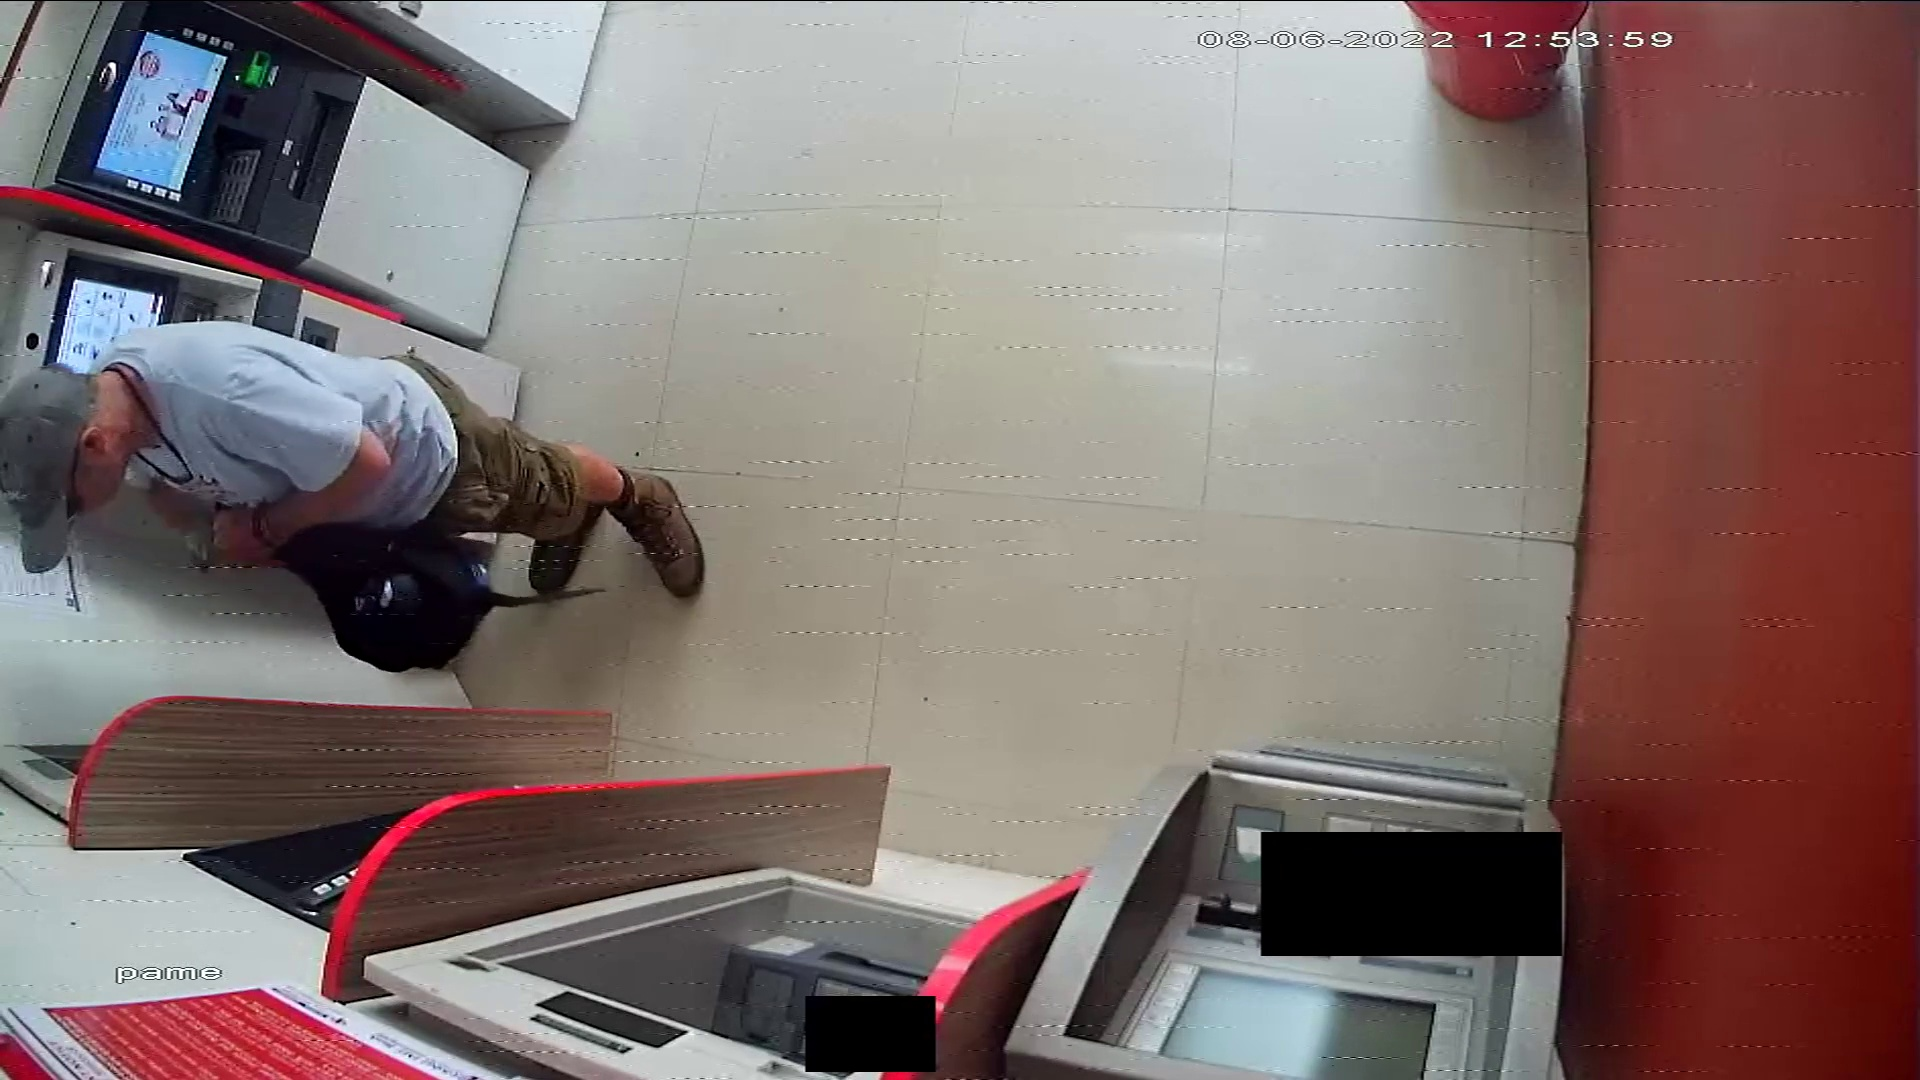person: (1, 318, 706, 613)
